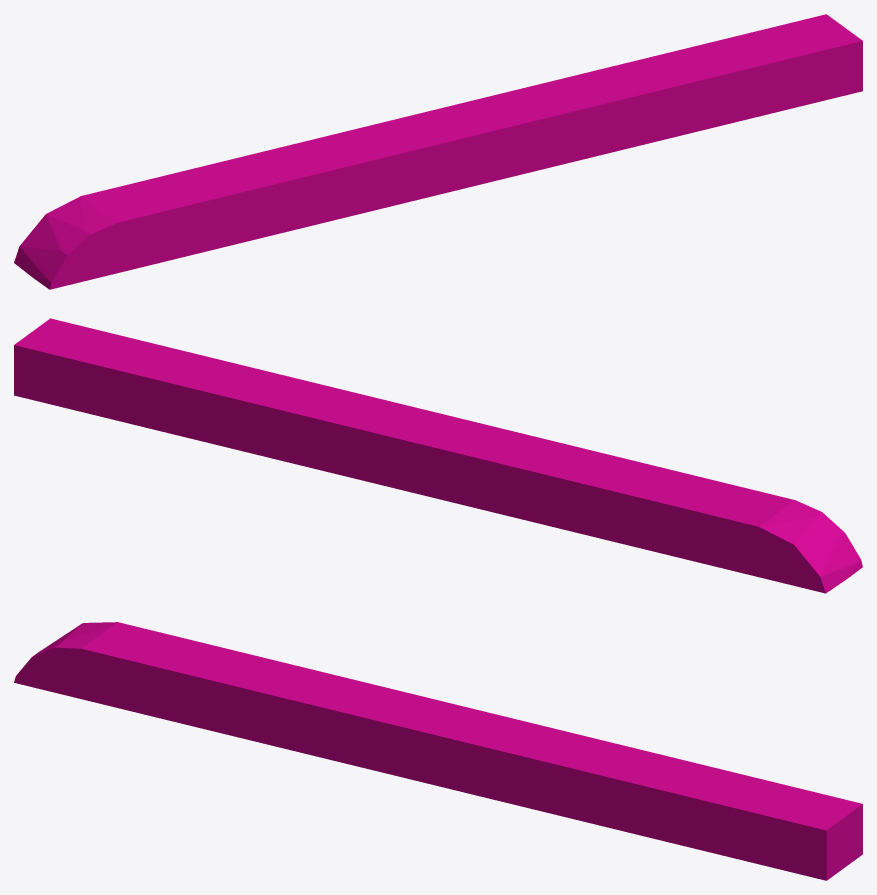
The picture shows the model from 3 angles, top to bottom: view 1: azimuth 30°, elevation 25°; view 2: azimuth 150°, elevation 25°; view 3: azimuth 330°, elevation 25°; orthographic projection.
Size of the model in its own units: 6.51 by 0.3864 by 0.5053.
